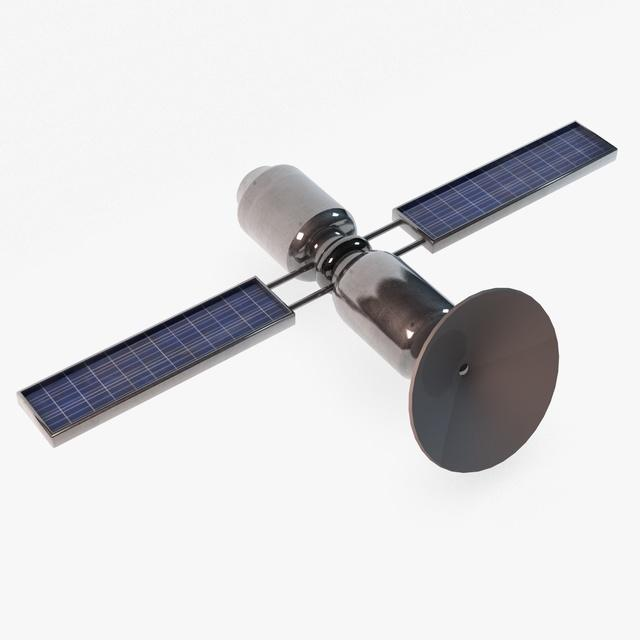antenna: (405, 287, 560, 476)
body: (231, 159, 461, 383)
solar: (12, 269, 301, 452), (390, 113, 622, 256)
